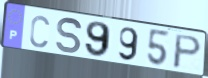5: (145, 27, 172, 69)
9: (84, 20, 114, 60), (117, 26, 140, 63)
C: (28, 14, 51, 50)
P: (171, 33, 204, 71)
S: (55, 17, 84, 56)
